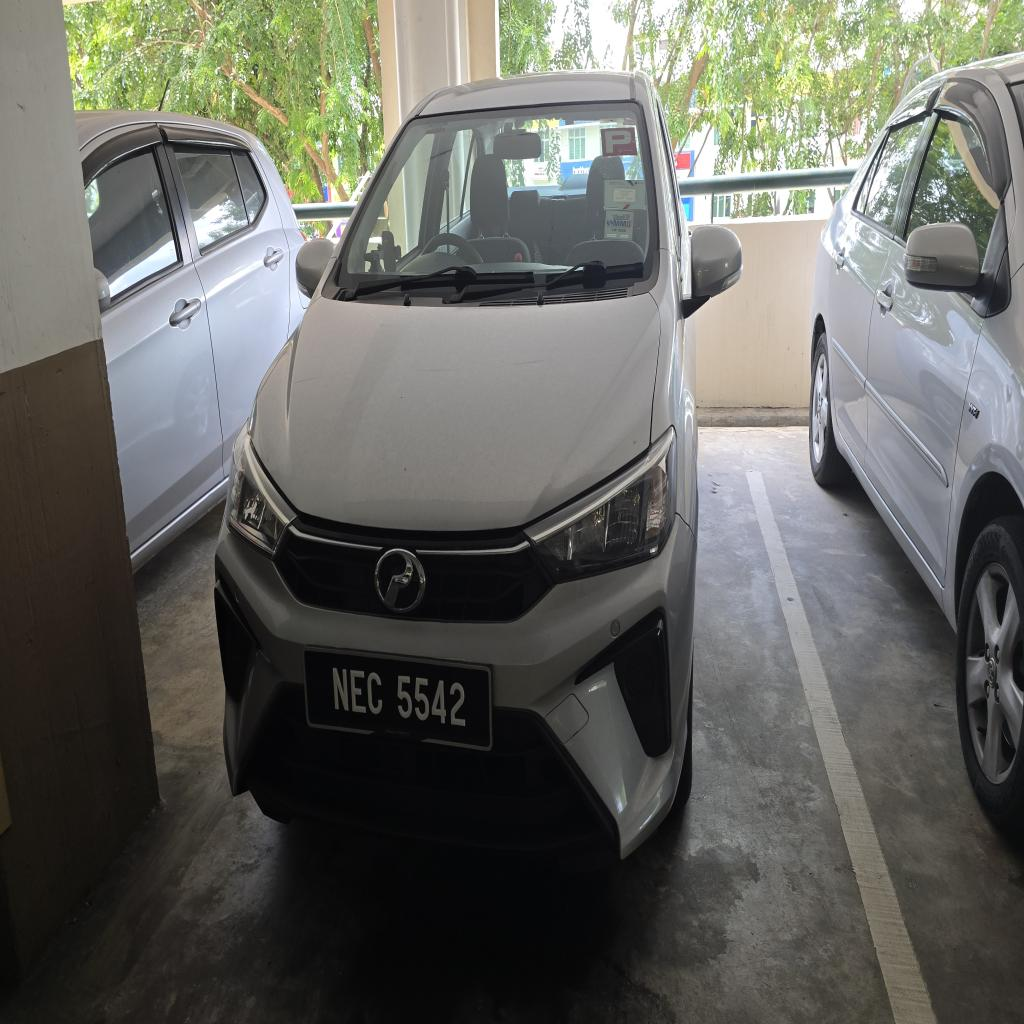car: (216, 74, 740, 857)
car plate: (305, 650, 491, 749)
